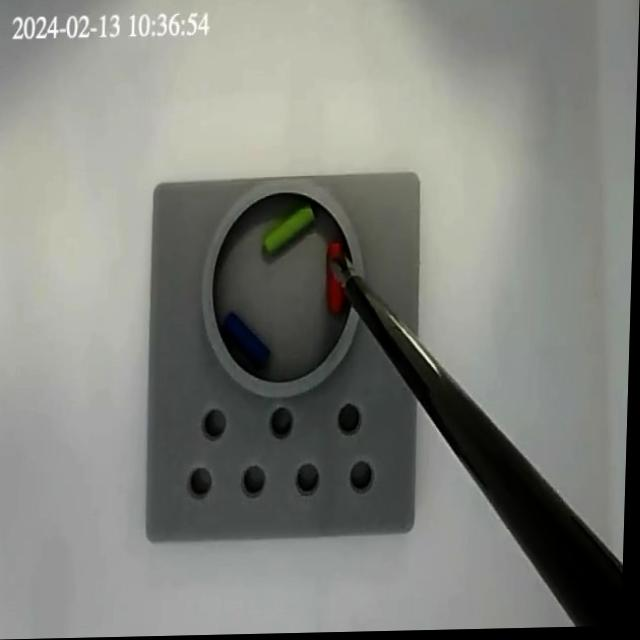EmptyHole: (295, 457, 326, 501), (349, 454, 379, 499), (188, 463, 218, 505), (203, 403, 231, 443), (338, 400, 365, 440), (271, 403, 298, 442), (244, 462, 270, 500)
